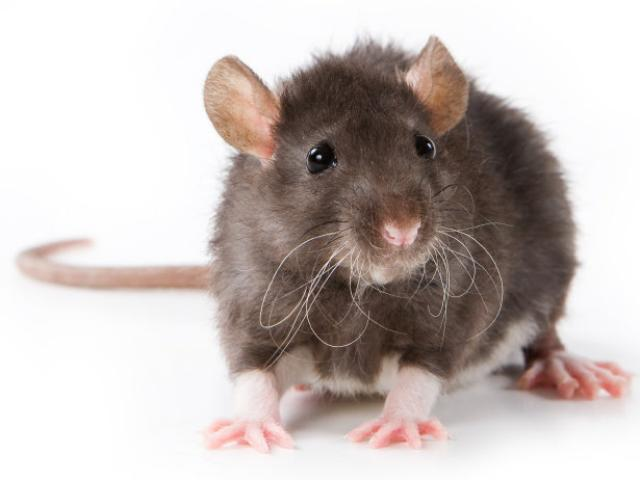rat: (184, 24, 636, 466)
